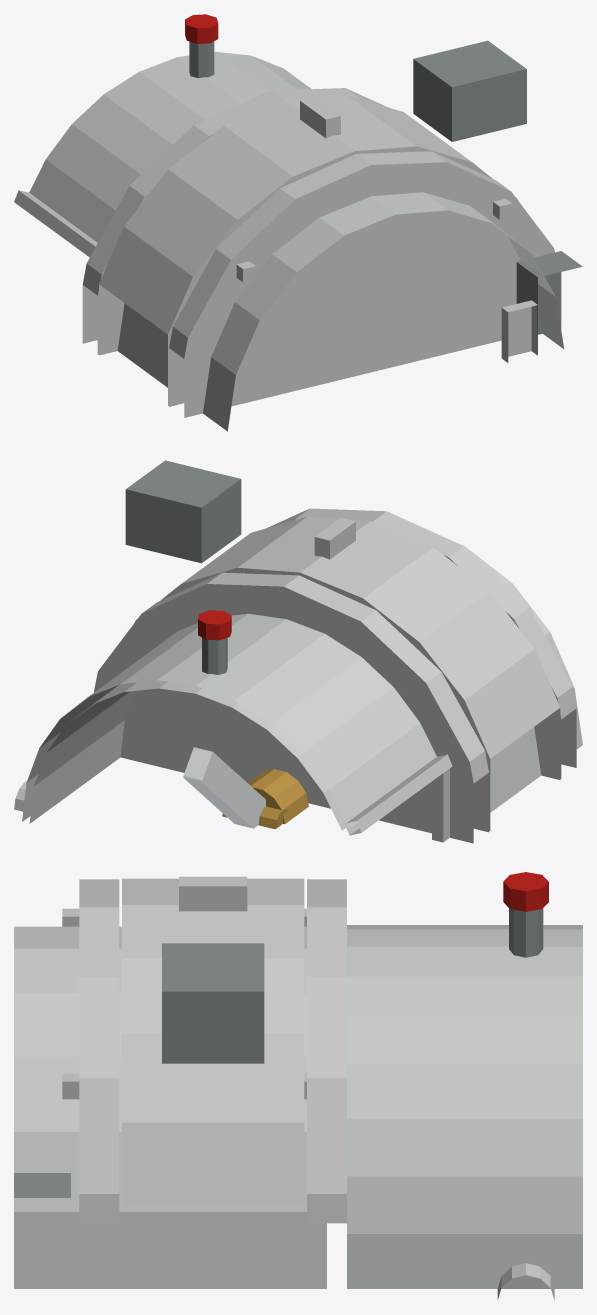
File: cell_92.obj
3 views of the same model, one above another, from view 1: azimuth 30°, elevation 25°; view 2: azimuth 150°, elevation 25°; view 3: azimuth 270°, elevation 25° (orthographic). The views are drawn at different scales.
Size of the model in its own units: 1 by 0.6 by 1.
